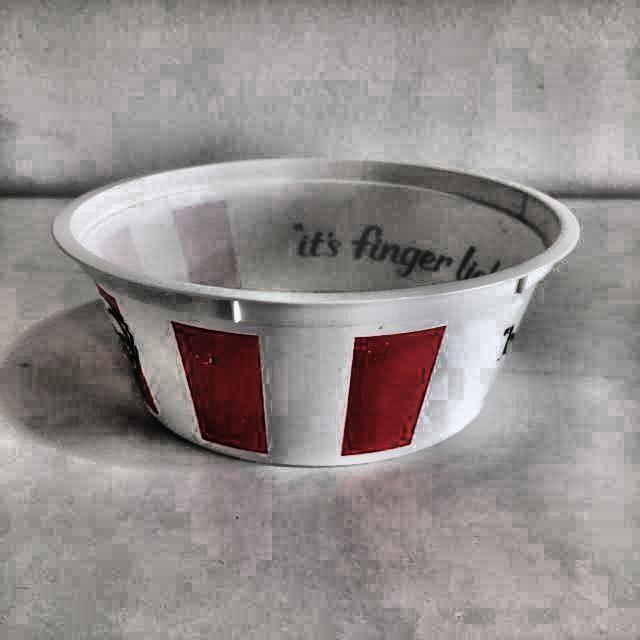Anorganik: (33, 145, 596, 487)
